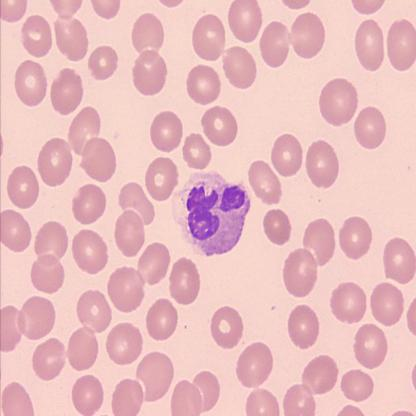Segmented neutrophil: (170, 168, 253, 259)
